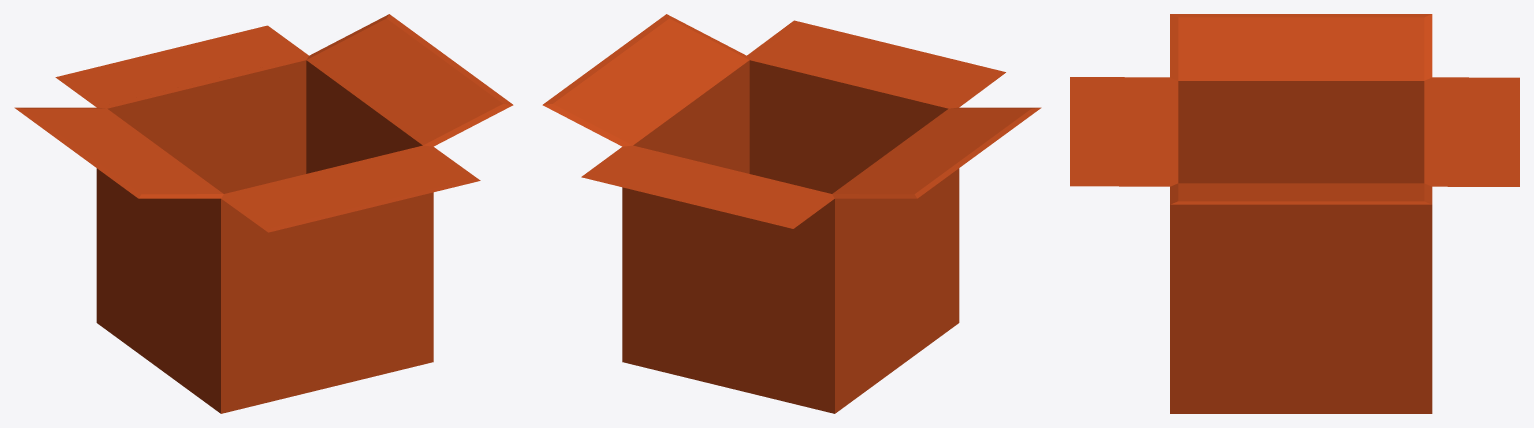
Rendered from caixaPapelao3.FBX.
3 renders of one model, left to right at view 1: azimuth 30°, elevation 25°; view 2: azimuth 150°, elevation 25°; view 3: azimuth 270°, elevation 25°, orthographic. The views are drawn at different scales.
Parts seen in each view (by area): view 1: Box002; view 2: Box002; view 3: Box002.
Boxes of the visible parts, box(x1,y1,x2,y2) form: Box002: box(14, 14, 513, 413); Box002: box(542, 14, 1041, 413); Box002: box(1070, 14, 1519, 413).
Size of the model in its own units: 68.06 by 41.18 by 66.99.
